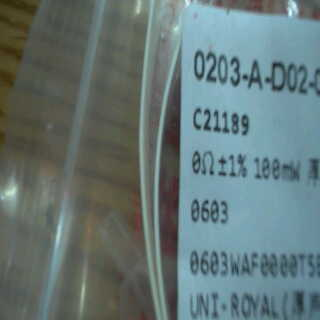0R: (190, 138, 305, 234)
